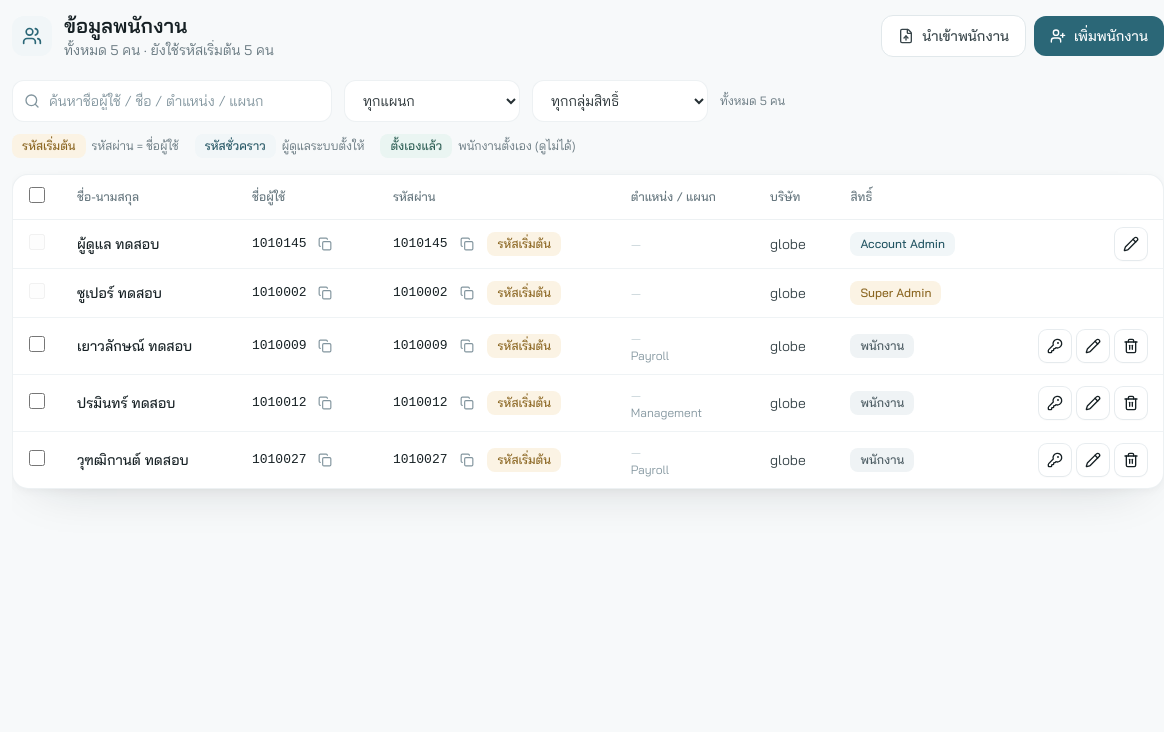
Test: filters › narrows the list by department, and clears again
Expected: the link "ปรมินทร์ ทดสอบ" is shown, [77,394,176,412]
Select "Payroll" in the dropdown named "กรองตามแผนก" at x=432, y=101, box [344,80,520,122]
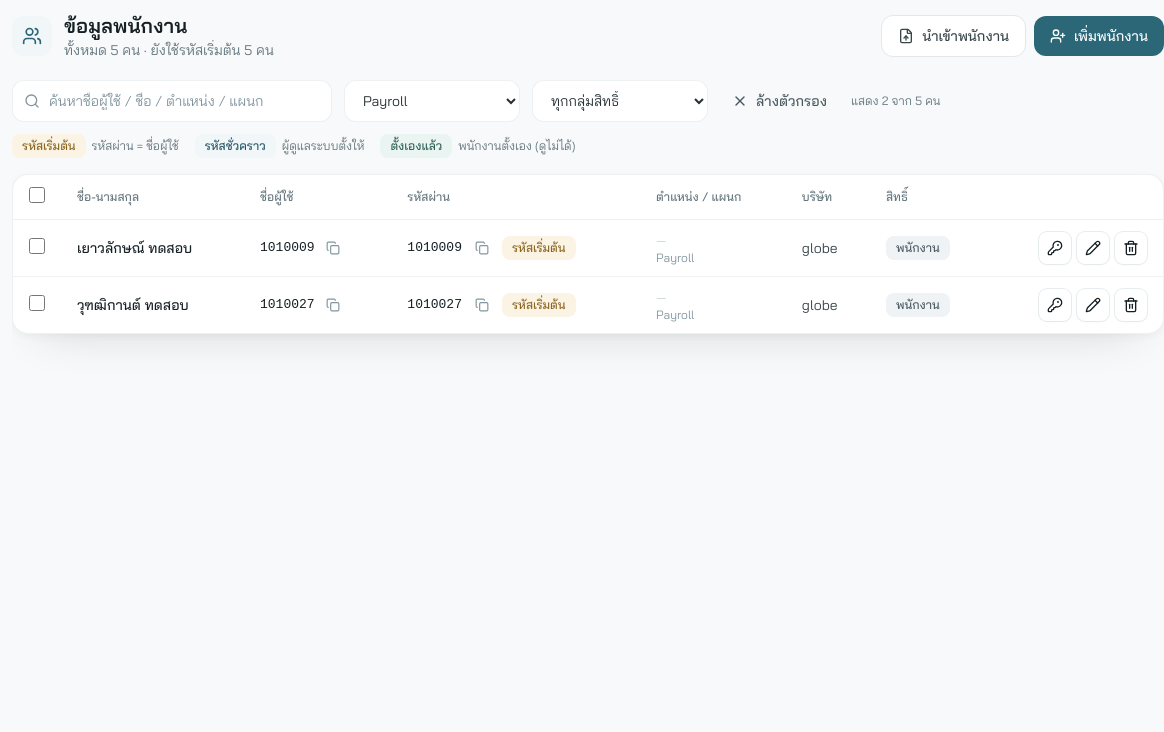
Expected: the link "เยาวลักษณ์ ทดสอบ" is shown, [77,239,192,257]
Now the link "ปรมินทร์ ทดสอบ" is gone
Now the text "แสดง 2 จาก 5 คน" is shown, box [851,93,940,109]
Click the button "ล้างตัวกรอง".
click(779, 101)  # box [720,83,839,119]
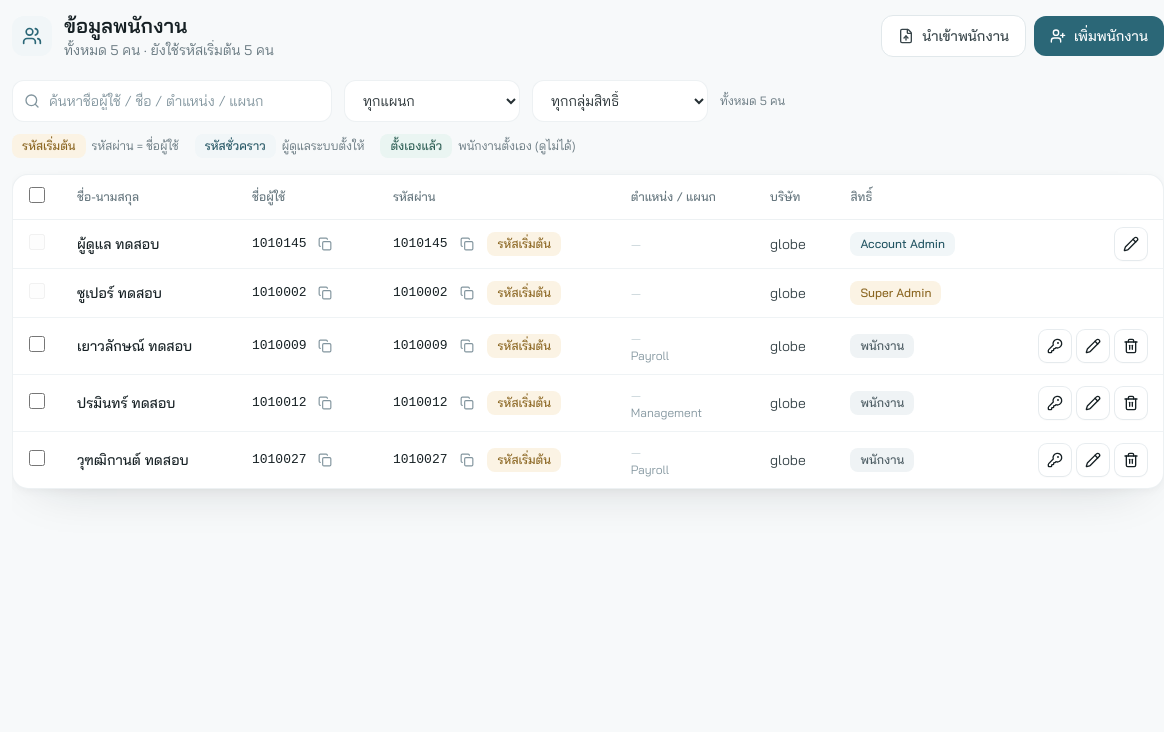
Now the link "ปรมินทร์ ทดสอบ" is shown, box [77,394,176,412]
